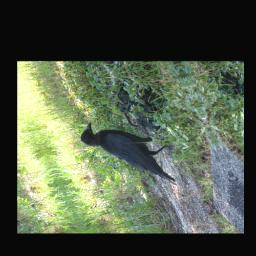Crow: (74, 109, 190, 200)
